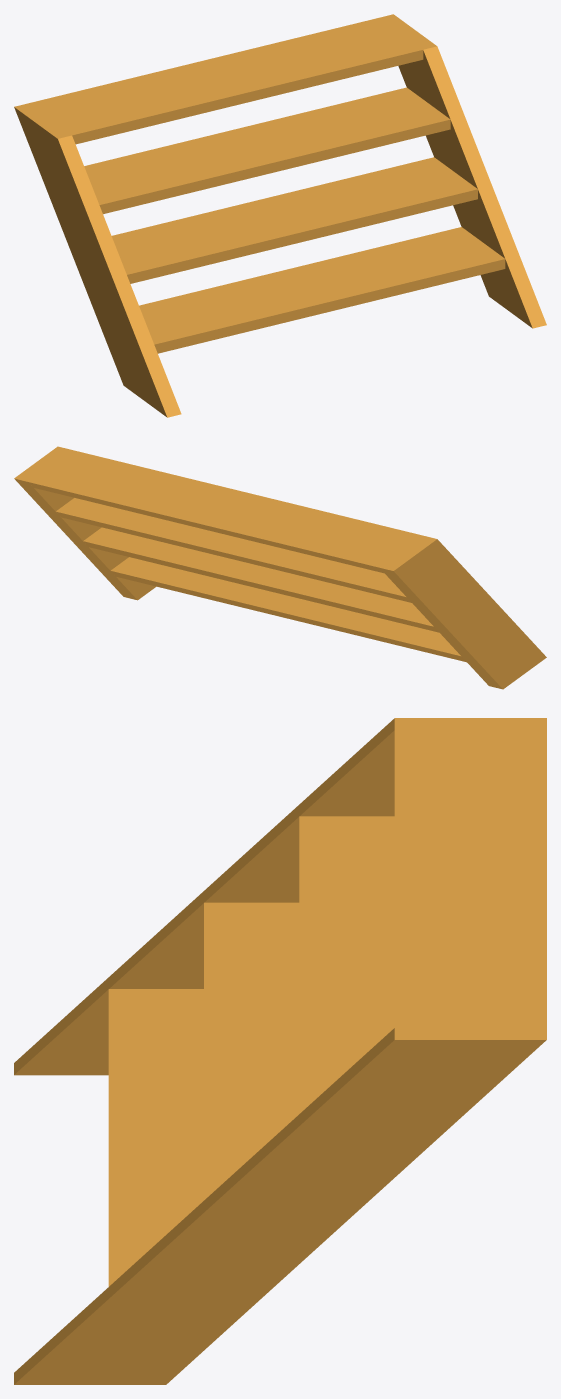
The model's file is scifi-stairs-narrow.fbx.
The picture shows the model from 3 angles, top to bottom: view 1: azimuth 30°, elevation 25°; view 2: azimuth 150°, elevation 25°; view 3: azimuth 270°, elevation 25°; orthographic projection. The views are drawn at different scales.
Visible parts, largest first — view 1: scifi-stairs-narrow; view 2: scifi-stairs-narrow; view 3: scifi-stairs-narrow.
Part boxes in pixels (bbox=[...]): scifi-stairs-narrow: bbox=[14, 14, 546, 417]; scifi-stairs-narrow: bbox=[14, 446, 546, 689]; scifi-stairs-narrow: bbox=[14, 718, 546, 1384].
Bounding box in the file's own units: 2 × 1 × 1.4.
